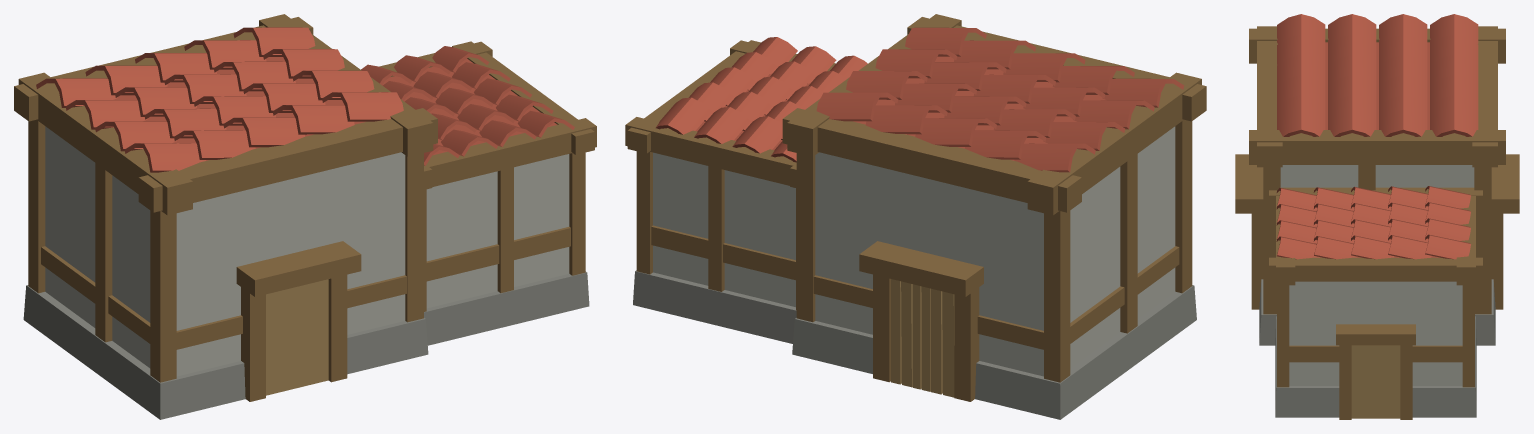
Rendered from house-1.glb.
3 views of the same model, side by side, from view 1: azimuth 30°, elevation 25°; view 2: azimuth 150°, elevation 25°; view 3: azimuth 270°, elevation 25° (orthographic). The views are drawn at different scales.
Visible parts, largest first — view 1: Houses_SecondAge_3_Level3.001; view 2: Houses_SecondAge_3_Level3.001; view 3: Houses_SecondAge_3_Level3.001.
Boxes of the visible parts, bbox=[...] form: Houses_SecondAge_3_Level3.001: bbox=[14, 14, 596, 419]; Houses_SecondAge_3_Level3.001: bbox=[625, 14, 1206, 419]; Houses_SecondAge_3_Level3.001: bbox=[1235, 14, 1519, 419].
Bounding box in the file's own units: 1.1 × 0.5908 × 0.6765.
